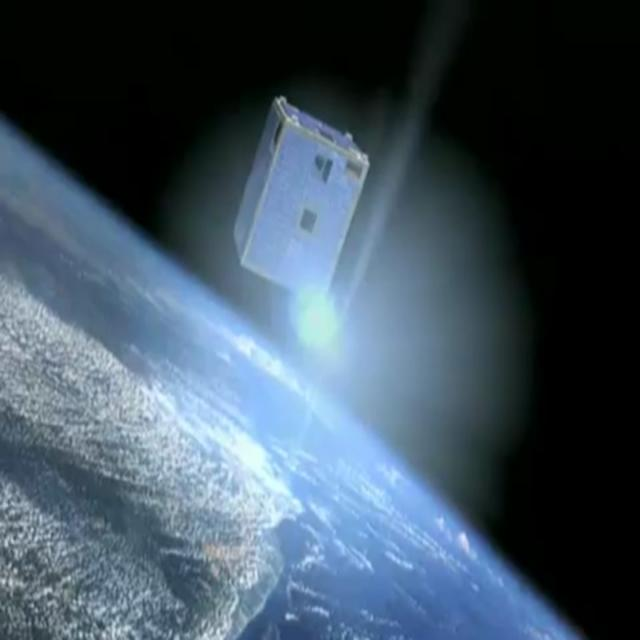sat: (226, 86, 376, 354)
